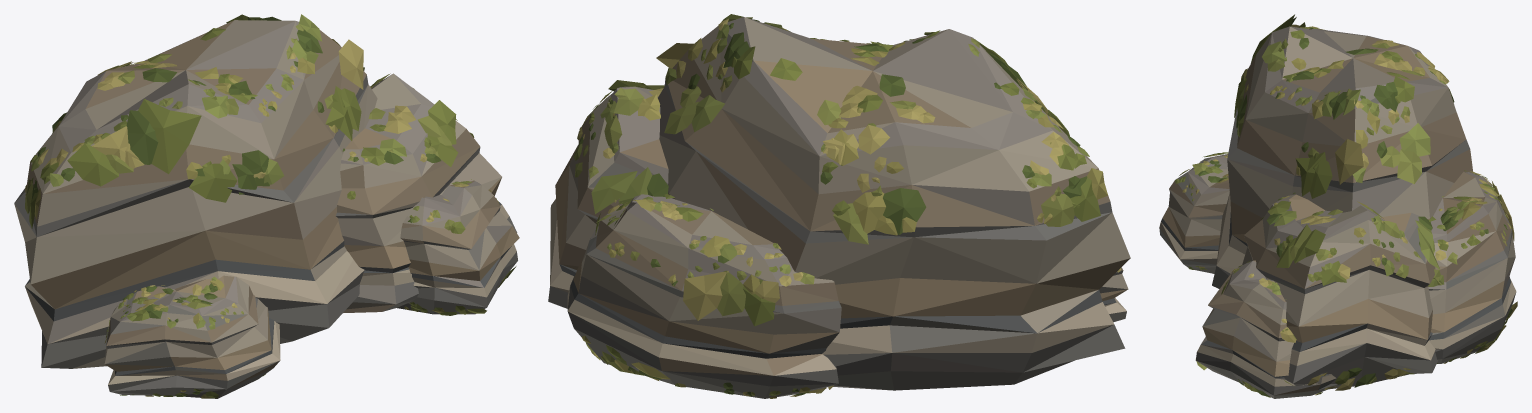
Rendered from wsc-prop-036-landscape-boulder.glb.
3 renders of one model, left to right at view 1: azimuth 30°, elevation 25°; view 2: azimuth 150°, elevation 25°; view 3: azimuth 270°, elevation 25°, orthographic. The views are drawn at different scales.
Visible parts, largest first — view 1: 01 Fractured feldspar and ironstone, 02 Lichen and moss; view 2: 01 Fractured feldspar and ironstone, 02 Lichen and moss; view 3: 01 Fractured feldspar and ironstone, 02 Lichen and moss.
Boxes of the visible parts, <box> form: 01 Fractured feldspar and ironstone: <box>14,20,519,398</box>; 02 Lichen and moss: <box>25,14,516,398</box>; 01 Fractured feldspar and ironstone: <box>548,17,1130,398</box>; 02 Lichen and moss: <box>573,14,1120,398</box>; 01 Fractured feldspar and ironstone: <box>1159,26,1516,398</box>; 02 Lichen and moss: <box>1175,14,1517,397</box>.
Size of the model in its own units: 2.59 by 1.33 by 1.8.
